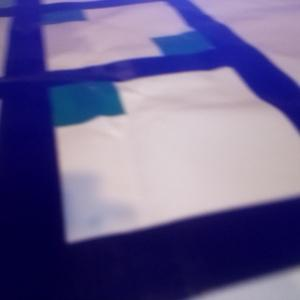bottom_right: (3, 77, 124, 126), (15, 5, 86, 25)
top_left: (152, 31, 234, 66)
